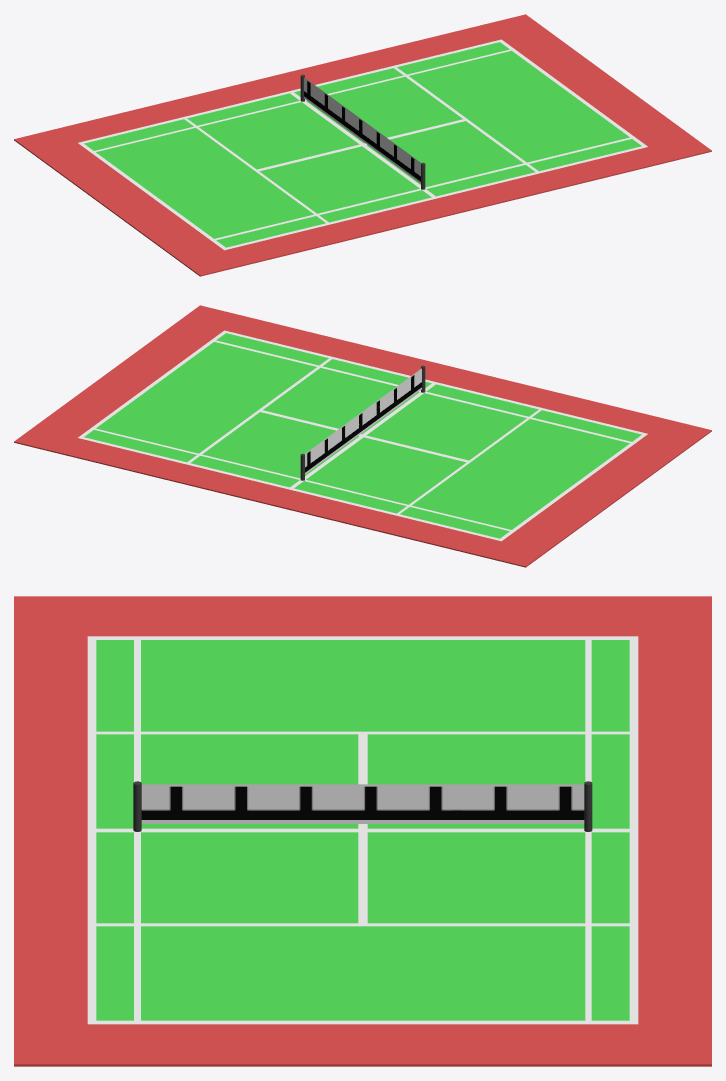
Rendered from lapten.fbx.
3 renders of one model, top to bottom at view 1: azimuth 30°, elevation 25°; view 2: azimuth 150°, elevation 25°; view 3: azimuth 270°, elevation 25°, orthographic. The views are drawn at different scales.
Parts seen in each view (by area): view 1: Plane, Plane.003, Plane.001; view 2: Plane, Plane.003, Plane.001; view 3: Plane, Plane.003, Plane.001.
Part boxes in pixels (x1,y1,x2,y2): Plane: (14,14,711,276); Plane.003: (304,78,420,181); Plane.001: (300,74,425,189); Plane: (14,305,711,567); Plane.003: (305,369,421,472); Plane.001: (300,365,425,480); Plane: (14,596,711,1066); Plane.003: (141,786,584,819); Plane.001: (133,781,592,831).
Size of the model in its own units: 6496 by 320 by 4092.
